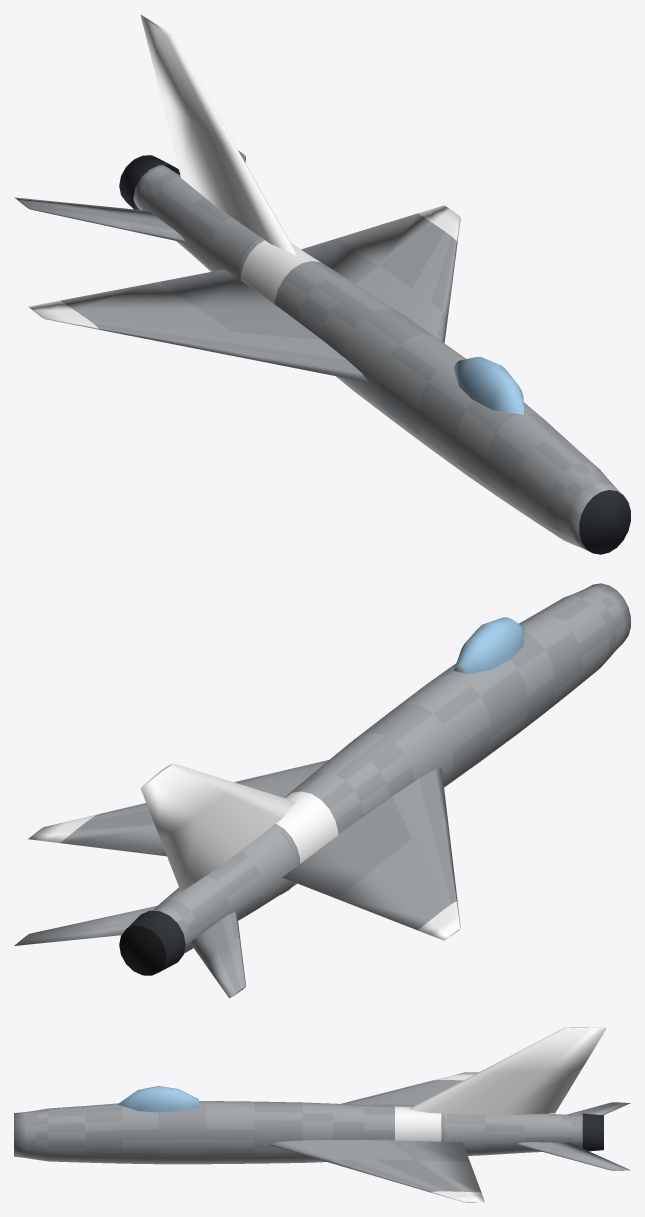
Rendered from mig21f13.glb.
3 views of the same model, one above another, from view 1: azimuth 30°, elevation 25°; view 2: azimuth 150°, elevation 25°; view 3: azimuth 270°, elevation 25° (orthographic). The views are drawn at different scales.
Parts seen in each view (by area): view 1: body; view 2: body; view 3: body.
Part boxes in pixels (x1,y1,x2,y2): body: (14,14,630,554); body: (14,583,630,998); body: (14,1027,630,1202).
Size of the model in its own units: 7.15 by 3.45 by 14.39.
